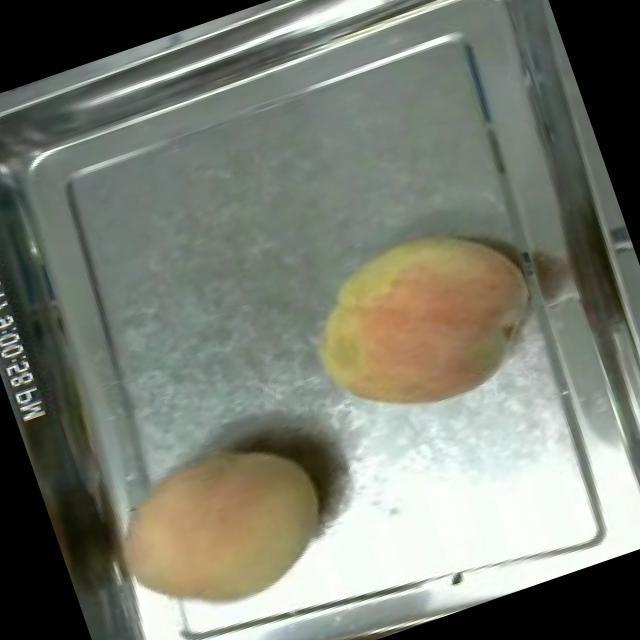Fruit: (278, 198, 561, 450), (88, 405, 358, 640)
